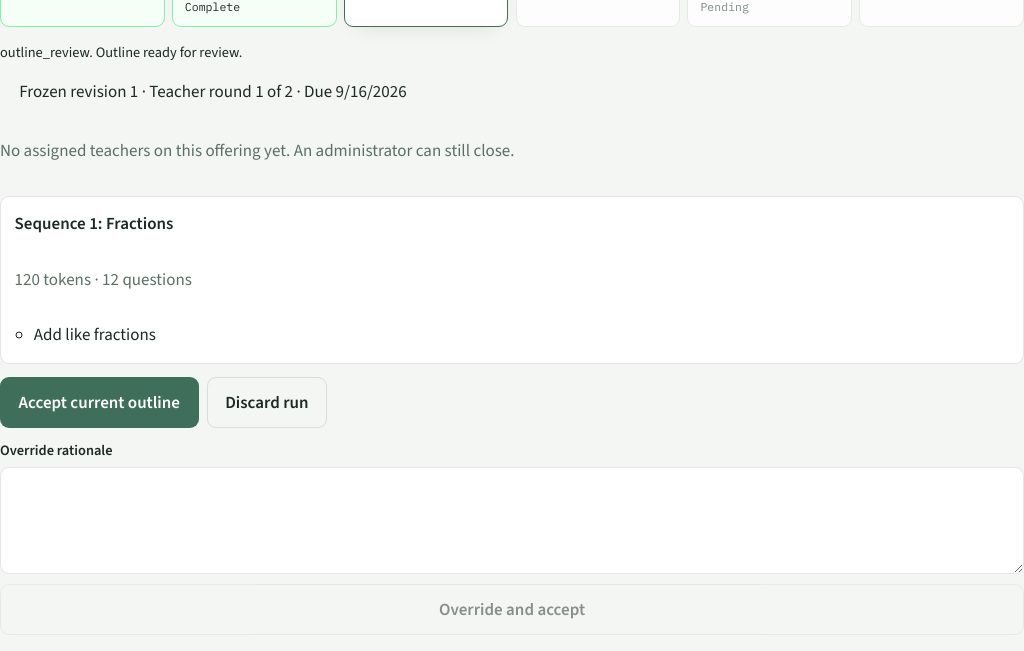
Scenario: TopicGenerationUpload › confirms override and accept with the frozen snapshot
(page scrolled)
Expected: the text "Sequence 1: Fractions" is shown, [15,210,173,238]
Type "Keep the current tree after round 2." into the text box labelled "Override rationale".
click(512, 521); type("Keep the current tree after round 2.")  # box [0,467,1023,574]
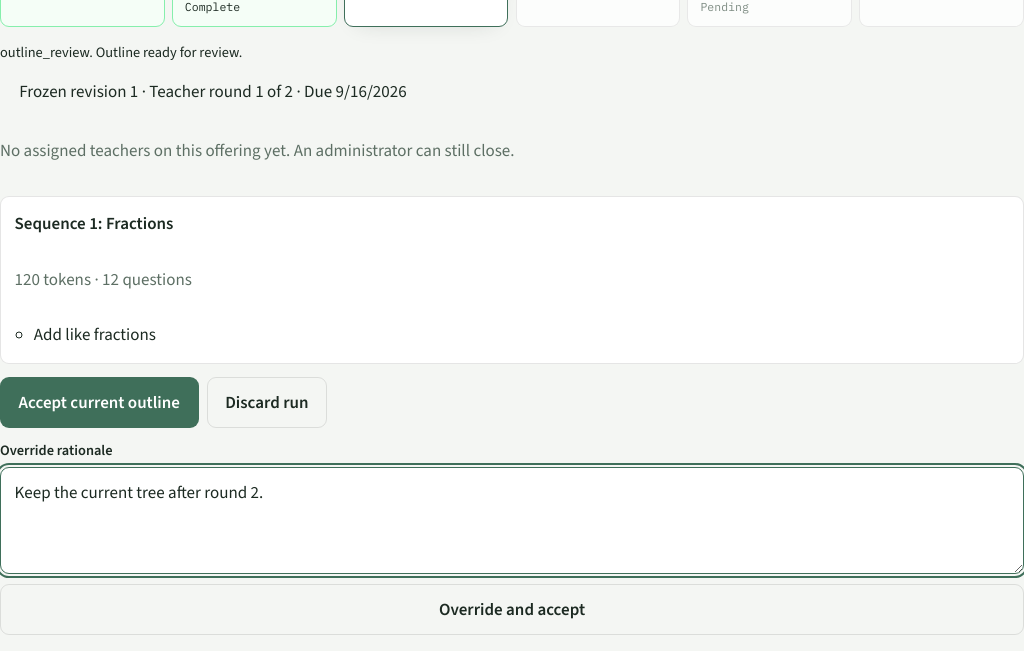
Click the button "Override and accept".
click(512, 610)  # box [0,584,1023,635]
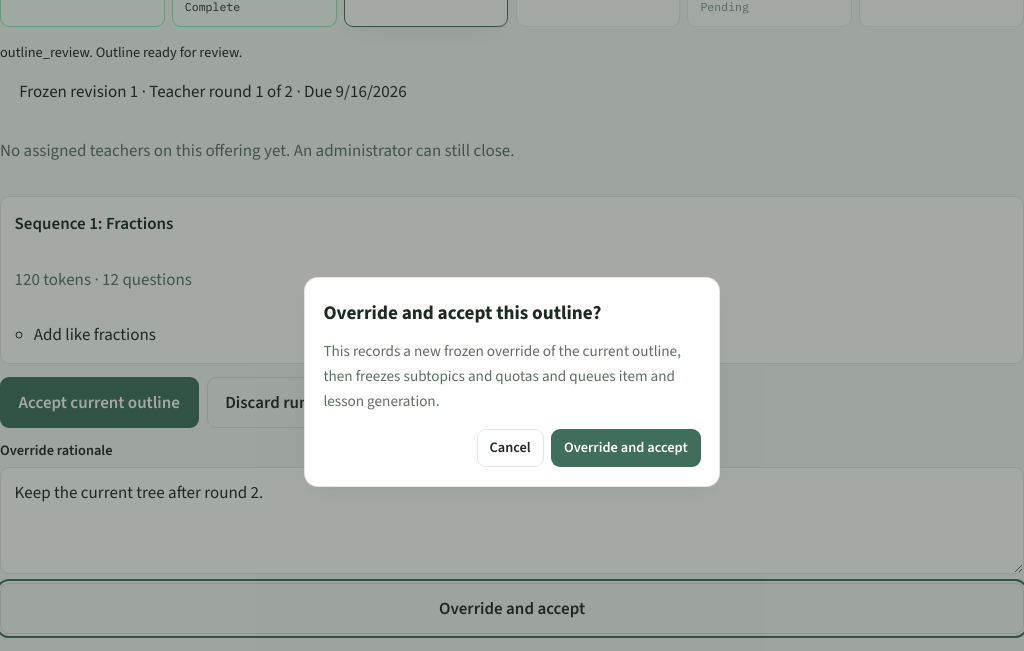
Click the button "Override and accept".
click(626, 448)  # box [551,429,701,467]
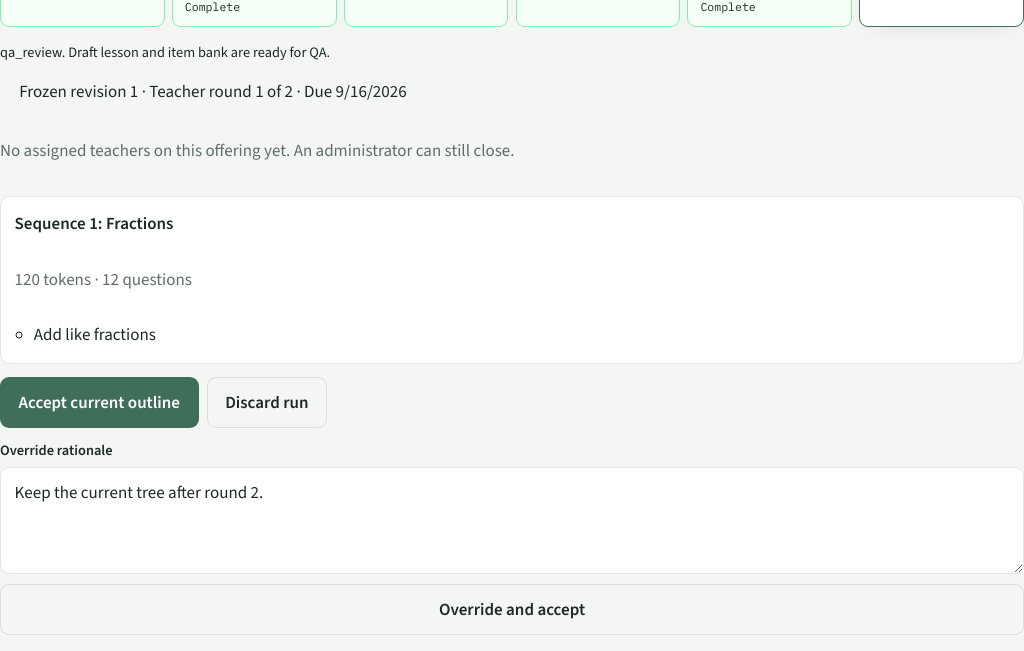
Expected: the text "qa_review. Draft lesson and item bank are ready for QA." is shown, [0,43,330,62]
